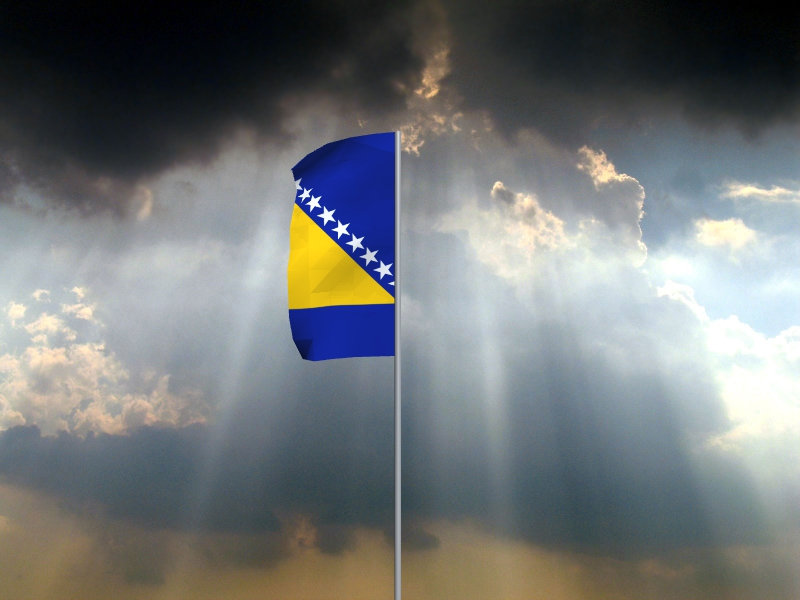ba: (287, 134, 396, 363)
